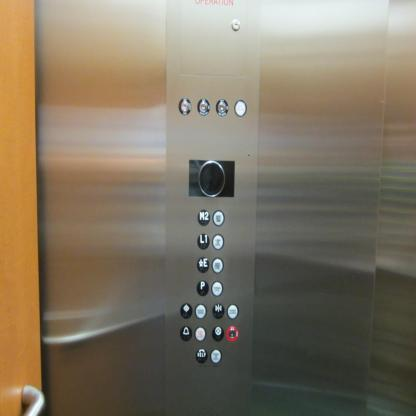L1: (196, 233, 209, 250)
M2: (197, 209, 210, 226)
P: (196, 280, 209, 296)
alarm: (180, 325, 192, 341)
call: (196, 348, 208, 364)
close: (212, 303, 225, 319)
hat: (234, 100, 247, 118)
keyhole: (178, 97, 192, 115), (215, 99, 229, 116), (197, 98, 210, 116), (226, 325, 238, 342), (231, 19, 240, 31)
led: (188, 159, 235, 197)
open: (180, 302, 193, 318)
sE: (197, 257, 209, 273)
stop: (212, 326, 224, 342)
text_blur: (212, 210, 225, 226), (211, 257, 224, 273), (194, 303, 207, 319), (210, 348, 223, 364), (212, 233, 224, 250), (211, 280, 223, 297), (227, 303, 239, 320), (194, 326, 206, 342)
